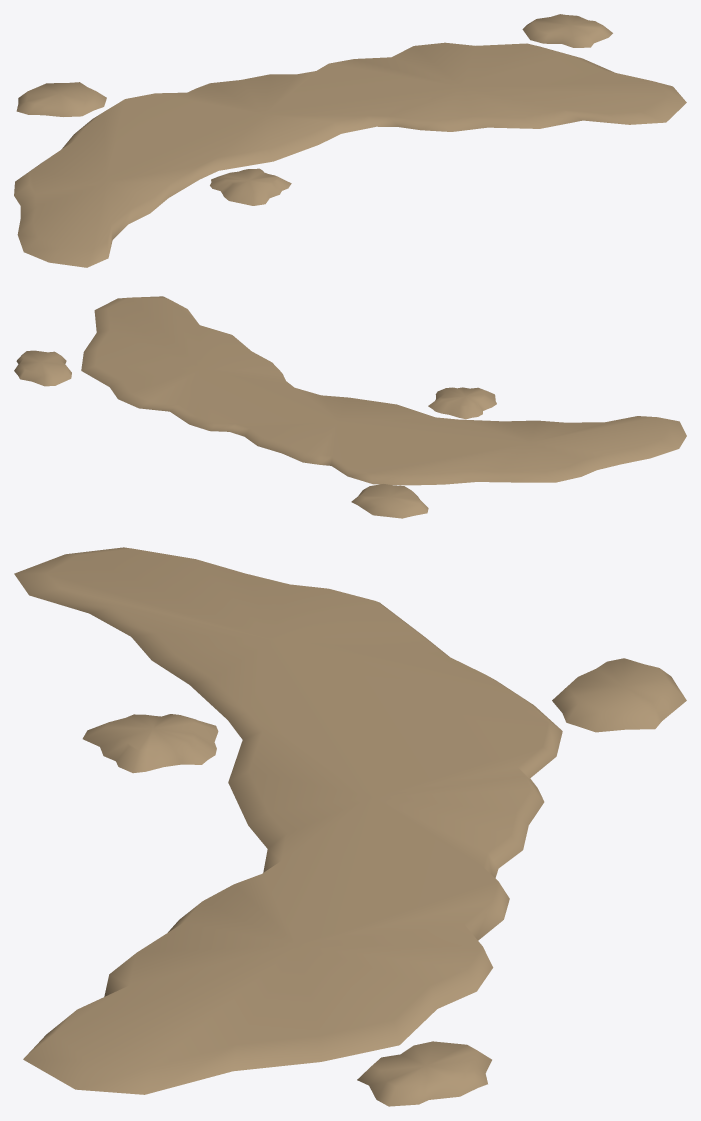
The model's file is P_SteppingStones_03_LD.fbx.
The picture shows the model from 3 angles, top to bottom: view 1: azimuth 30°, elevation 25°; view 2: azimuth 150°, elevation 25°; view 3: azimuth 270°, elevation 25°; orthographic projection. The views are drawn at different scales.
Visible parts, largest first — view 1: P_SteppingStones_03; view 2: P_SteppingStones_03; view 3: P_SteppingStones_03.
Part boxes in pixels (x1=…): P_SteppingStones_03: x1=14, y1=14, x2=686, y2=267; P_SteppingStones_03: x1=14, y1=296, x2=686, y2=518; P_SteppingStones_03: x1=14, y1=547, x2=686, y2=1106.
Size of the model in its own units: 671 by 8.82 by 341.
Materials: 1 (1 with a texture image).
